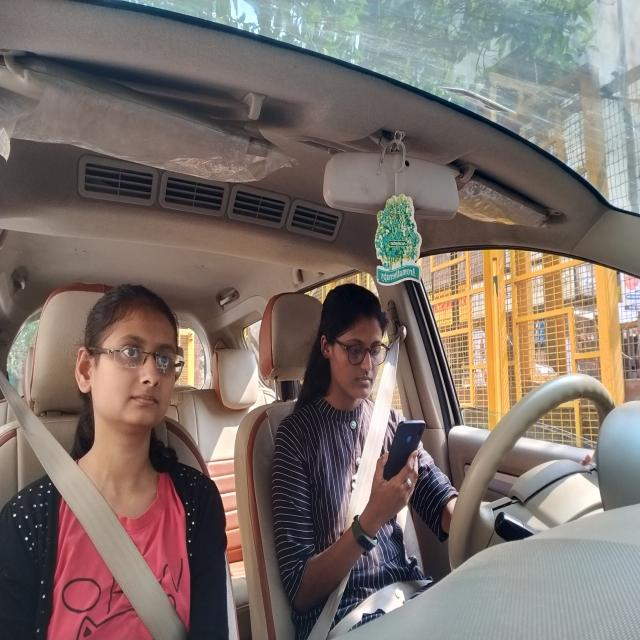mobile: (385, 414, 432, 508)
person: (68, 280, 188, 442), (316, 281, 391, 406)
